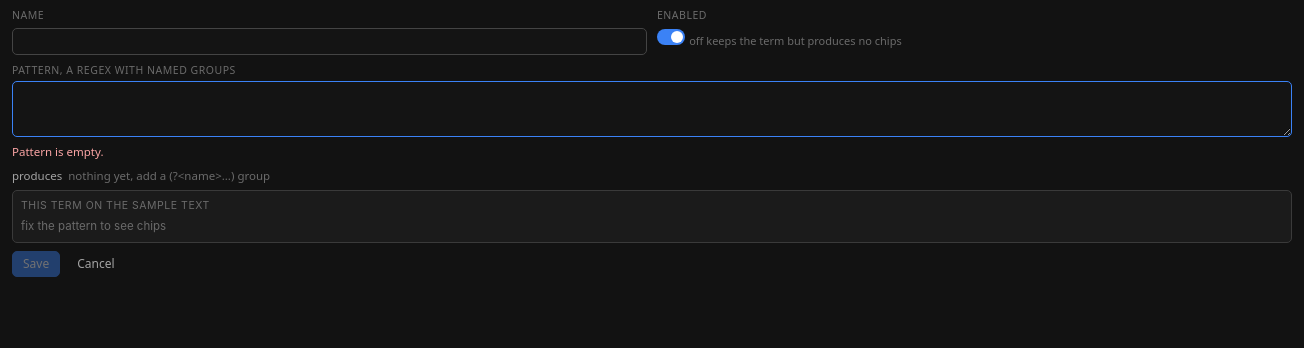
it: SearchTermEditor › validates the four cases from 14.4 and disables Save while invalid
Check: the text with test id "term-error" reads "Pattern is empty.", box [12, 144, 104, 159]
Check: the button with test id "term-save" is disabled, box [12, 251, 60, 277]
In the text box with test id "term-pattern": coordinates (652, 109) [12, 81, 1292, 137], type "(?<ip>["
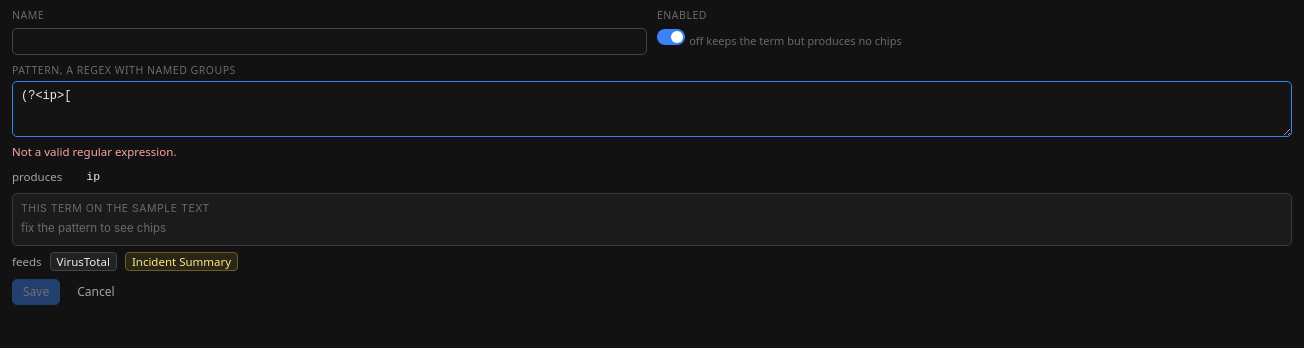
Check: the element with test id "term-editor" shows "fix the pattern to see chips", box [21, 221, 166, 235]
Check: the text with test id "term-error" reads "Not a valid regular expression.", box [12, 144, 176, 159]
Replace the text in the text box with test id "term-pattern" with "(?<ip>\\d*)": coordinates (652, 109) [12, 81, 1292, 137]
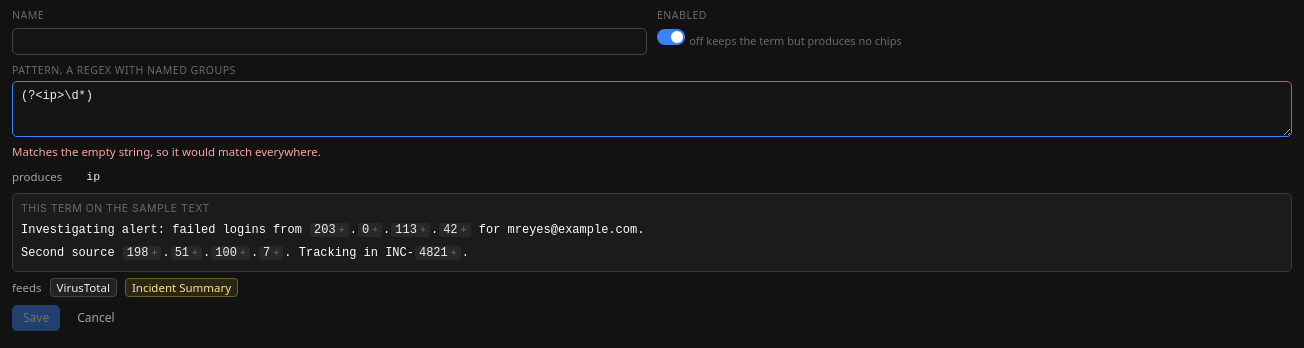
Check: the text with test id "term-error" shows "Matches the empty string", box [12, 144, 321, 159]
Replace the text in the text box with test id "term-pattern" with "\\d+": coordinates (652, 109) [12, 81, 1292, 137]
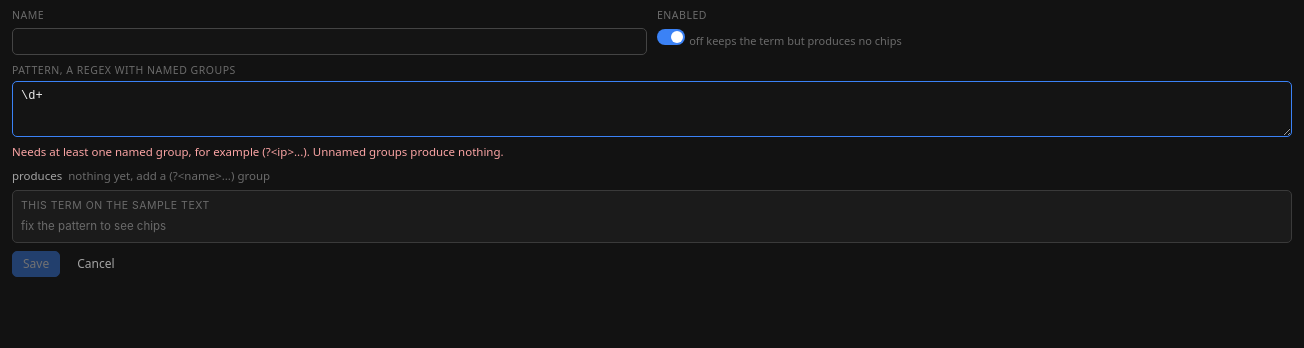
Check: the text with test id "term-error" shows "Needs at least one named group", box [12, 144, 504, 159]
Check: the element with test id "term-editor" shows "nothing yet, add a", box [68, 168, 270, 182]
Replace the text in the text box with test id "term-pattern" with "(?<c1>\\d+)": coordinates (652, 109) [12, 81, 1292, 137]
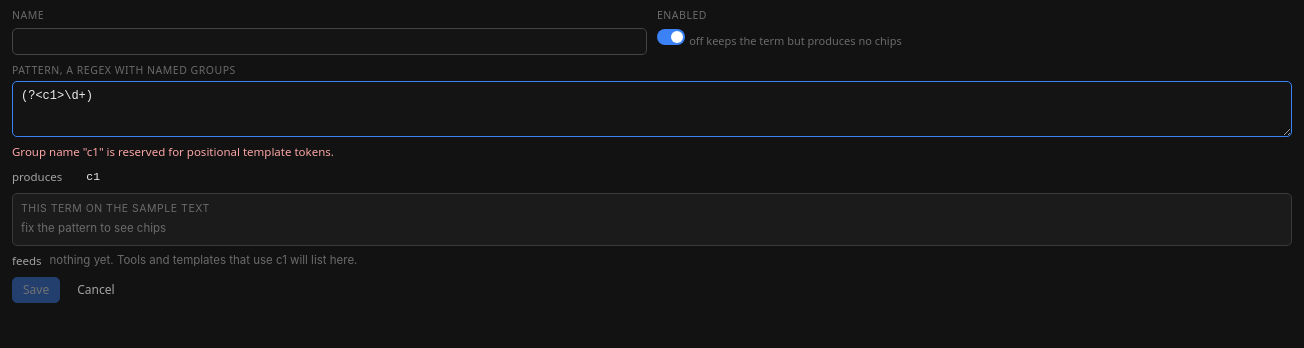
Check: the text with test id "term-error" shows "\"c1\" is reserved", box [12, 144, 334, 159]
Replace the text in the text box with test id "term-pattern" with "(?<ticket>INC-\\d+)": coordinates (652, 109) [12, 81, 1292, 137]
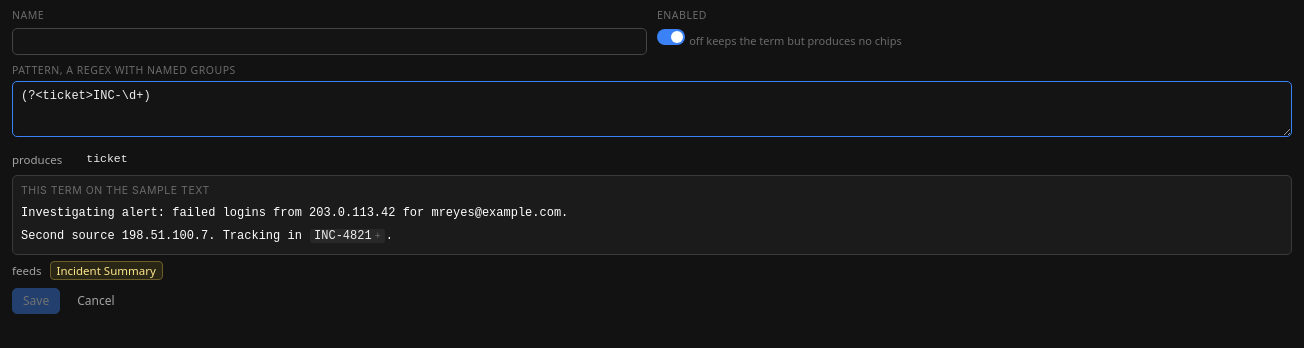
Check: the button with test id "term-save" is disabled, box [12, 288, 60, 314]
Check: the text with test id "term-error" is gone
In the field with test id "term-name": coordinates (330, 41) [12, 28, 647, 55], type "Ticket"
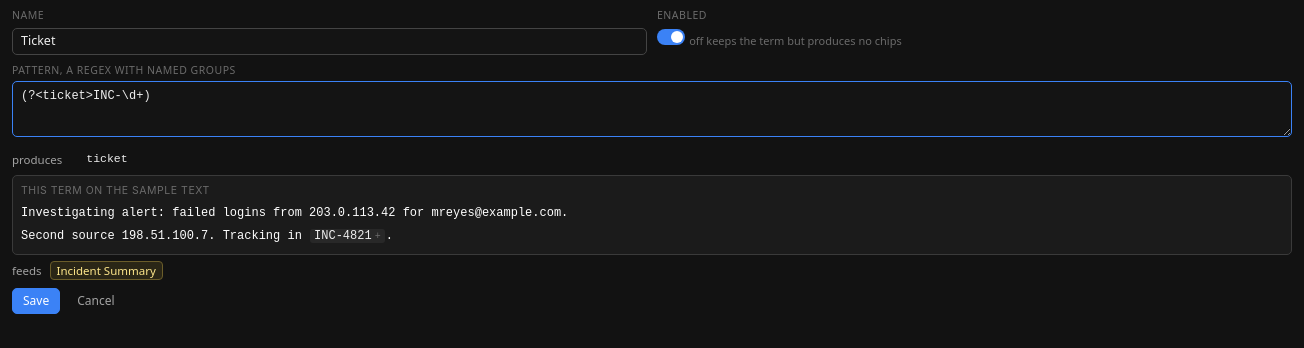
Check: the button with test id "term-save" is enabled, box [12, 288, 60, 314]
